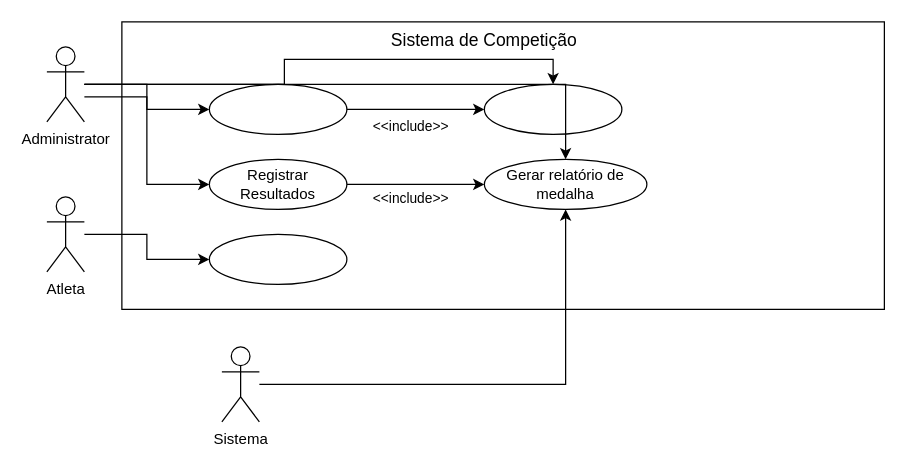
Image size: 906x470. Some labels were removed from this diagram. Here are the shapes that lost their labels. From the top down, the centre of each, then its label:
(277,108): Cadastrar Competição
(552,108): Alocar Local
(277,258): Inscrever atleta
